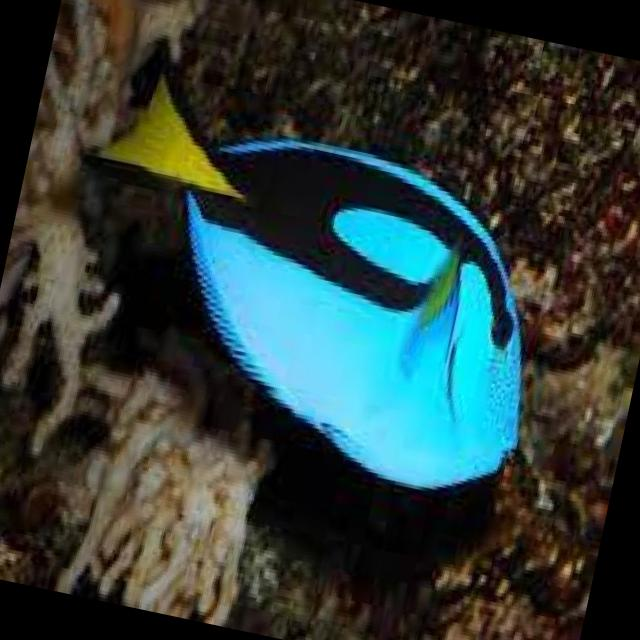BlueTang: (55, 70, 578, 510)
